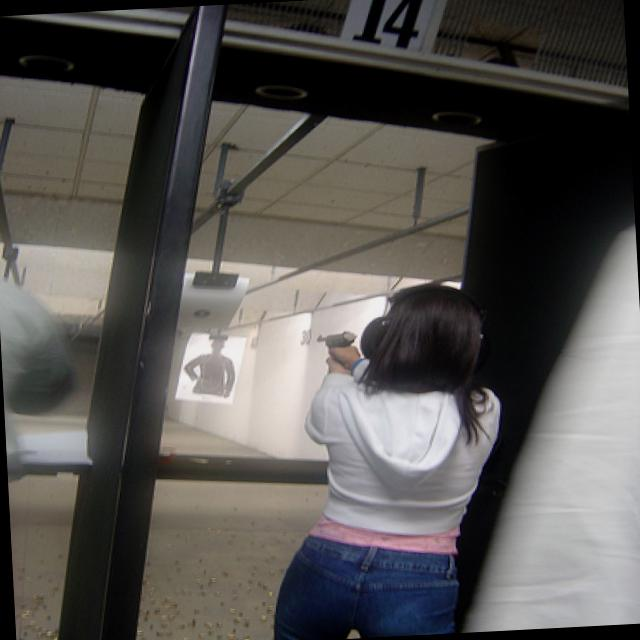handgun: (314, 328, 355, 352)
